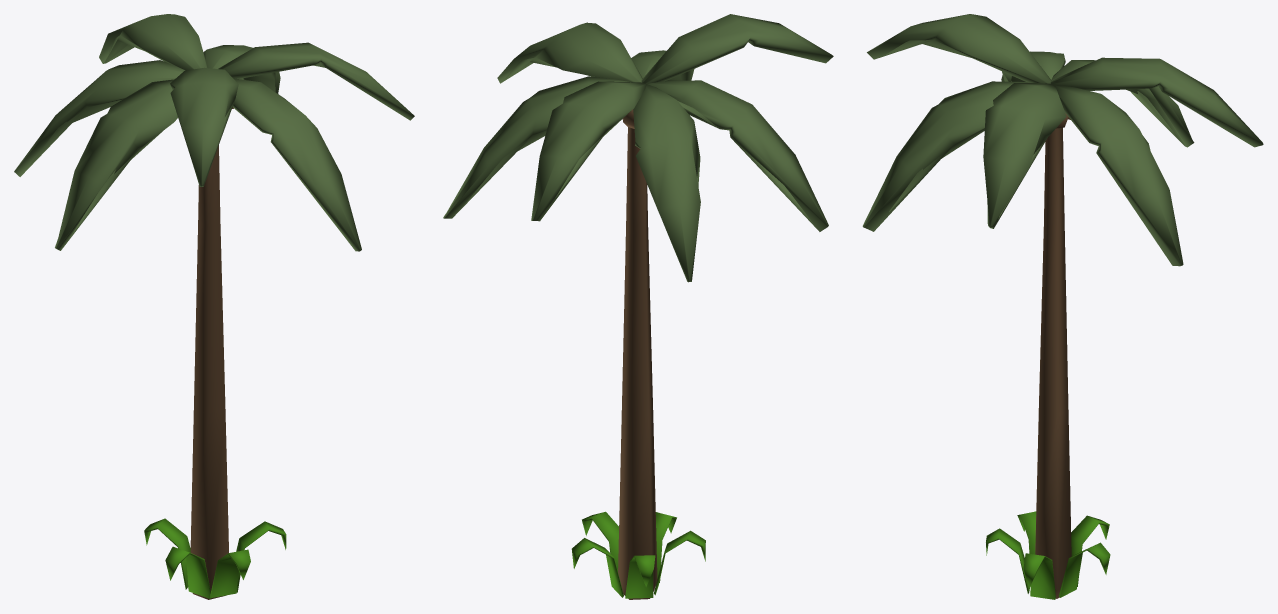
The model's file is palm_tree_2.FBX.
The picture shows the model from 3 angles, left to right: view 1: azimuth 30°, elevation 25°; view 2: azimuth 150°, elevation 25°; view 3: azimuth 270°, elevation 25°; orthographic projection. The views are drawn at different scales.
Parts seen in each view (by area): view 1: palm_tree_2; view 2: palm_tree_2; view 3: palm_tree_2.
Boxes of the visible parts, x1,y1,x2,y2 form: palm_tree_2: (14, 14, 414, 599); palm_tree_2: (443, 14, 833, 599); palm_tree_2: (862, 14, 1263, 599).
Bounding box in the file's own units: 57.39 × 88.42 × 58.76.
